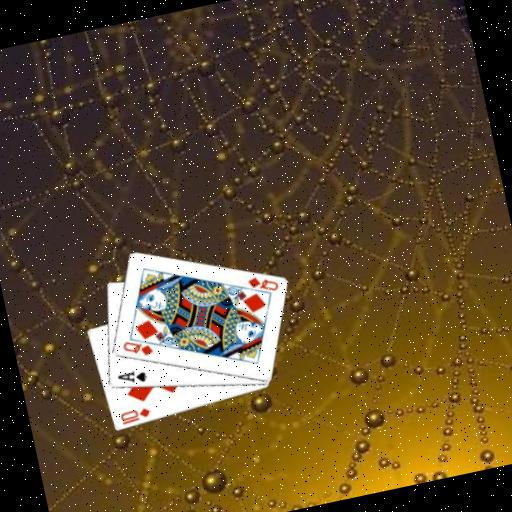10D: (115, 404, 153, 427)
AS: (113, 365, 148, 388)
QD: (118, 334, 155, 362), (243, 269, 280, 297)
